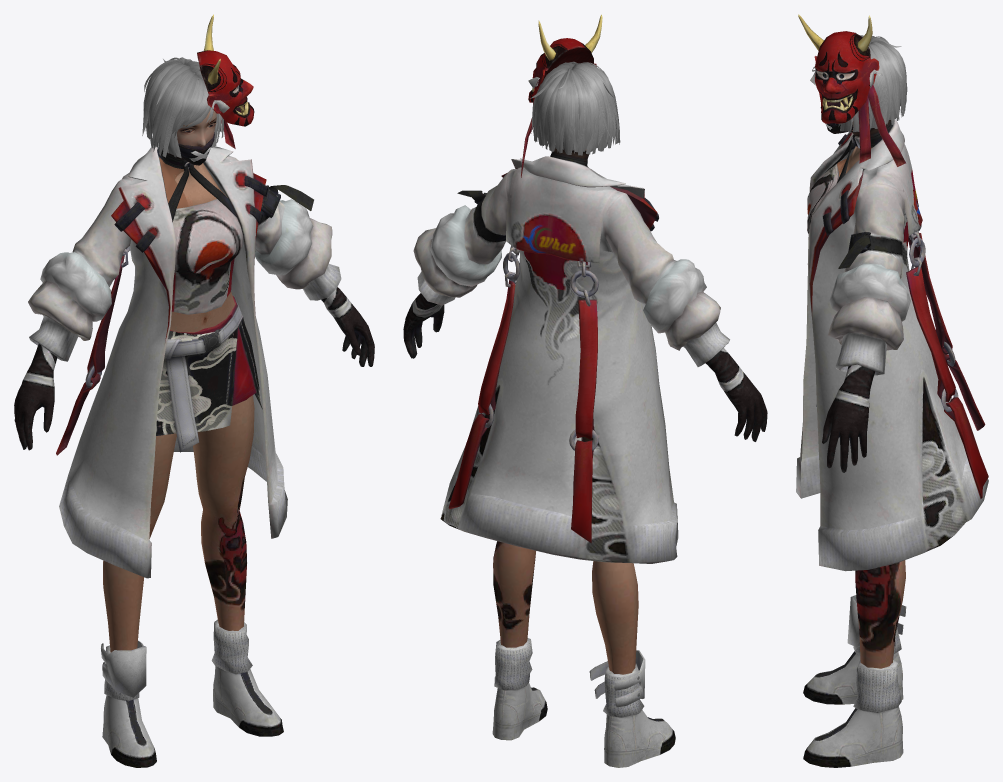
Rendered from Impermanence Female.obj.
3 renders of one model, left to right at view 1: azimuth 30°, elevation 25°; view 2: azimuth 150°, elevation 25°; view 3: azimuth 270°, elevation 25°, orthographic. The views are drawn at different scales.
Parts seen in each view (by area): view 1: Female_Lobby_Top_Cos_Impermanence, Female_Lobby_Top_Cos_Impermanence.002, Female_Lobby_Shoe_Cos_Impermanence, Female_Lobby_Hair_Cos_Impermanence, Female_Lobby_Hair_Cos_Impermanence.001, Female_Lobby_Head_Cos_Impermanence; view 2: Female_Lobby_Top_Cos_Impermanence, Female_Lobby_Shoe_Cos_Impermanence, Female_Lobby_Top_Cos_Impermanence.002, Female_Lobby_Hair_Cos_Impermanence, Female_Lobby_Hair_Cos_Impermanence.001; view 3: Female_Lobby_Top_Cos_Impermanence, Female_Lobby_Shoe_Cos_Impermanence, Female_Lobby_Hair_Cos_Impermanence.001, Female_Lobby_Top_Cos_Impermanence.002, Female_Lobby_Hair_Cos_Impermanence.
Boxes of the visible parts, <box> form: Female_Lobby_Top_Cos_Impermanence: <box>14,143,374,578</box>; Female_Lobby_Top_Cos_Impermanence.002: <box>103,157,262,652</box>; Female_Lobby_Shoe_Cos_Impermanence: <box>101,619,283,767</box>; Female_Lobby_Hair_Cos_Impermanence: <box>142,57,223,158</box>; Female_Lobby_Hair_Cos_Impermanence.001: <box>178,14,254,165</box>; Female_Lobby_Head_Cos_Impermanence: <box>177,110,216,146</box>; Female_Lobby_Top_Cos_Impermanence: <box>403,148,767,563</box>; Female_Lobby_Shoe_Cos_Impermanence: <box>492,638,675,767</box>; Female_Lobby_Top_Cos_Impermanence.002: <box>493,541,638,674</box>; Female_Lobby_Hair_Cos_Impermanence: <box>530,61,620,155</box>; Female_Lobby_Hair_Cos_Impermanence.001: <box>521,14,602,177</box>; Female_Lobby_Top_Cos_Impermanence: <box>796,120,988,571</box>; Female_Lobby_Shoe_Cos_Impermanence: <box>803,595,906,767</box>; Female_Lobby_Hair_Cos_Impermanence.001: <box>798,14,905,166</box>; Female_Lobby_Top_Cos_Impermanence.002: <box>816,146,905,668</box>; Female_Lobby_Hair_Cos_Impermanence: <box>835,35,907,131</box>.
Size of the model in its own units: 0.5439 by 1.05 by 0.2506.
Materials: 7 (7 with a texture image).
